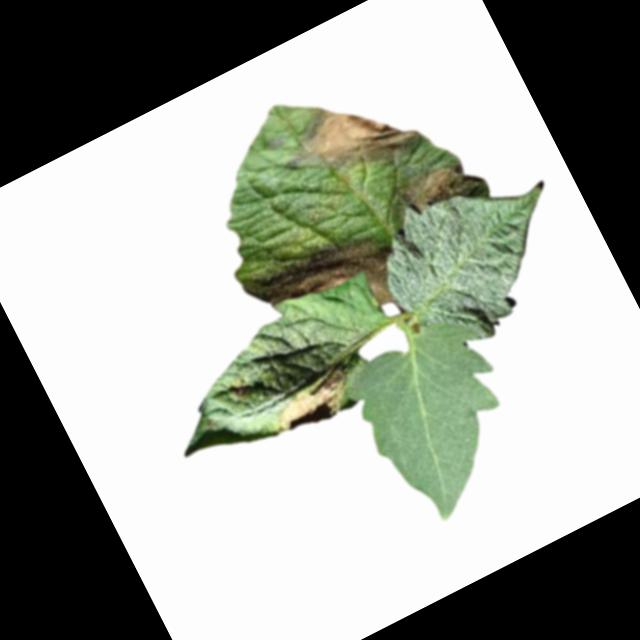Late_blight: (238, 213, 411, 360), (269, 69, 426, 202), (265, 362, 361, 441), (392, 150, 482, 220)
healthy: (365, 147, 594, 367), (336, 308, 547, 535)
